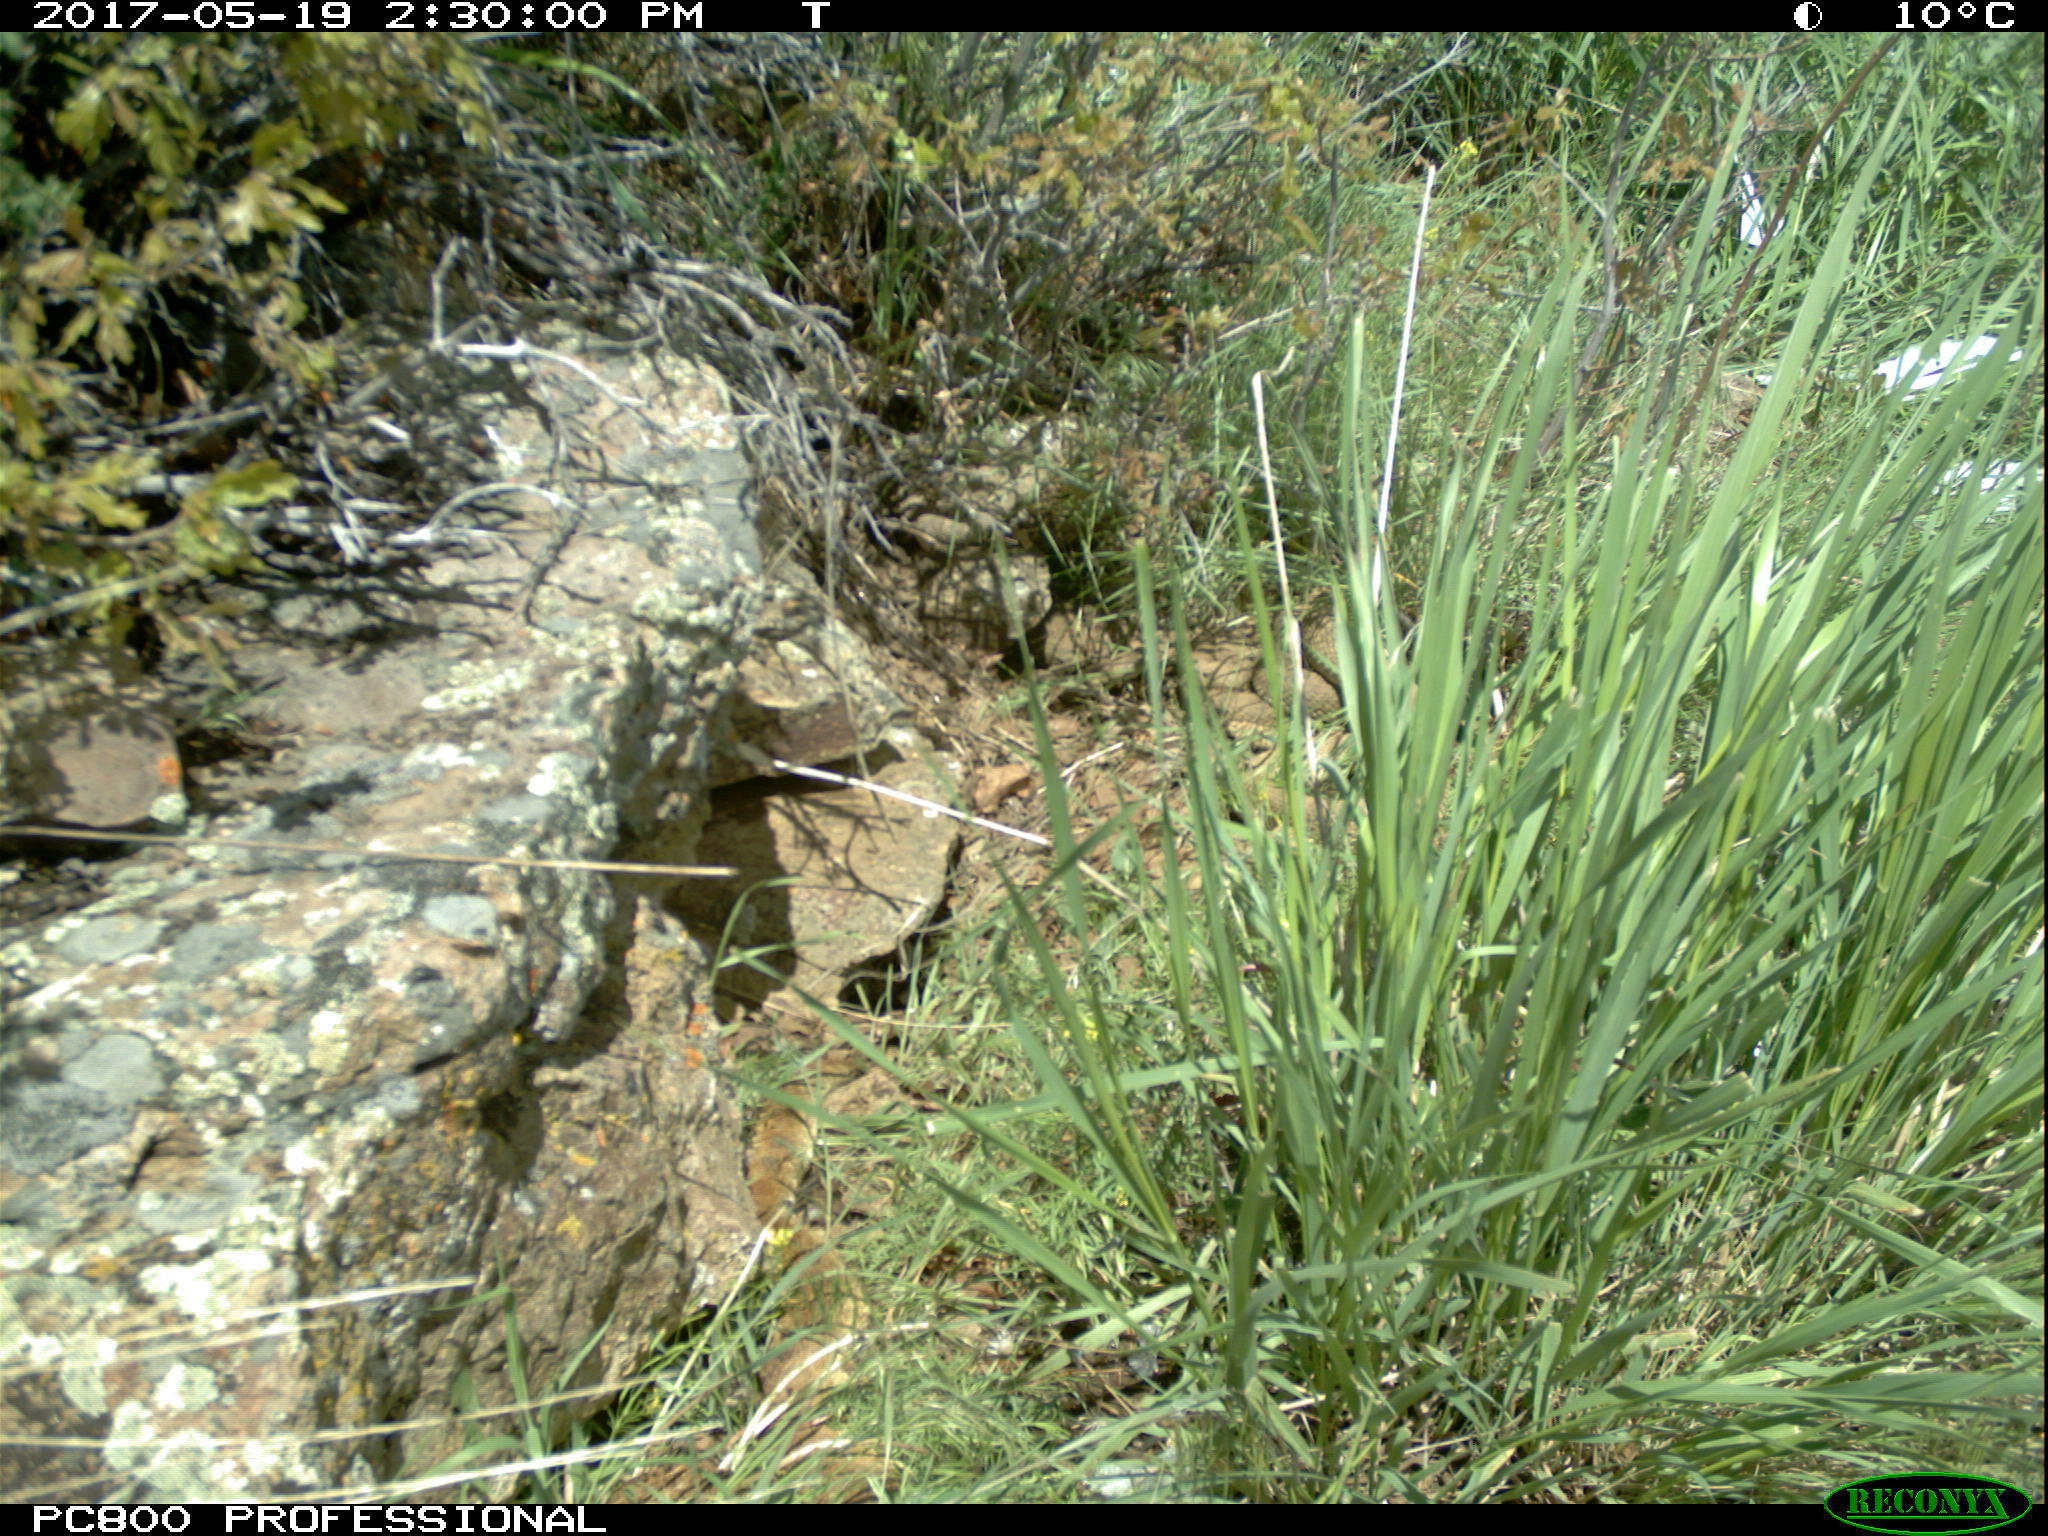snake: (739, 1046, 868, 1394), (1180, 597, 1401, 736)
